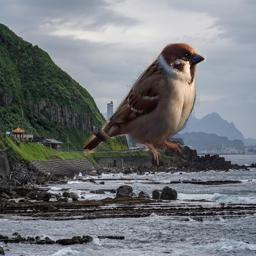Sparrow: (83, 41, 207, 171)
